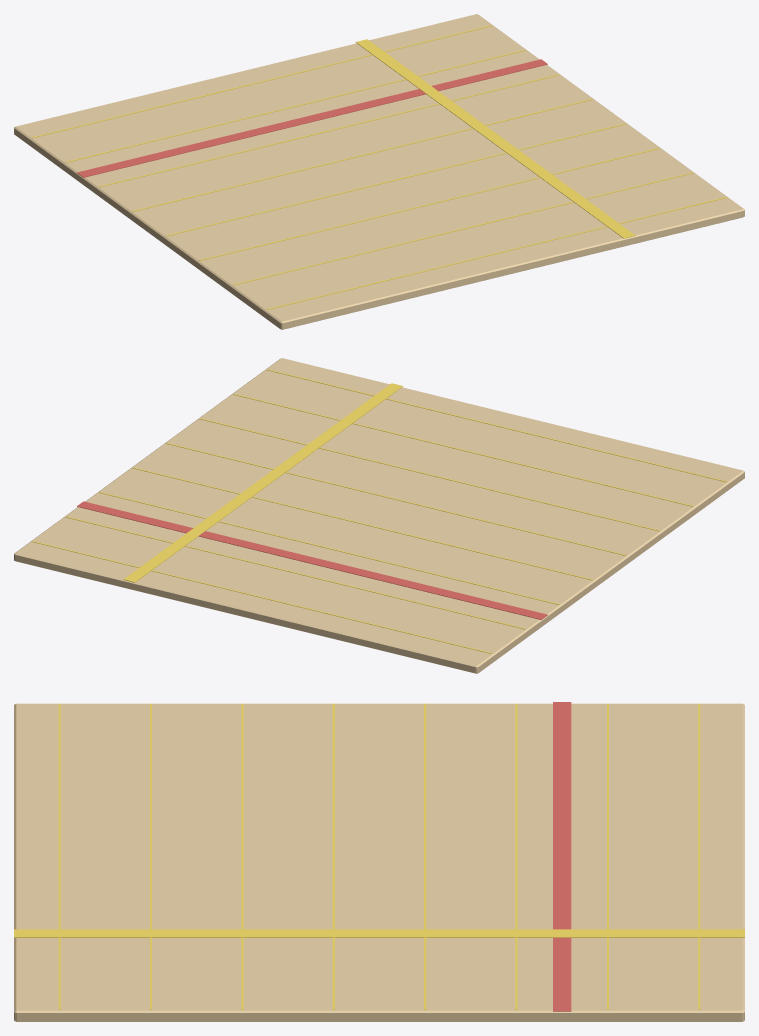
Rendered from community-sports-hall-and-changing-rooms-sports-hall-f-525fb8bf__35080.glb.
The picture shows the model from 3 angles, top to bottom: view 1: azimuth 30°, elevation 25°; view 2: azimuth 150°, elevation 25°; view 3: azimuth 270°, elevation 25°; orthographic projection. The views are drawn at different scales.
Parts seen in each view (by area): view 1: sports-hall-floor-panel; view 2: sports-hall-floor-panel; view 3: sports-hall-floor-panel.
Part boxes in pixels (x1,y1,x2,y2): sports-hall-floor-panel: [14, 14, 744, 329]; sports-hall-floor-panel: [14, 358, 744, 673]; sports-hall-floor-panel: [14, 702, 744, 1021].
Size of the model in its own units: 2 by 0.0372 by 2.
